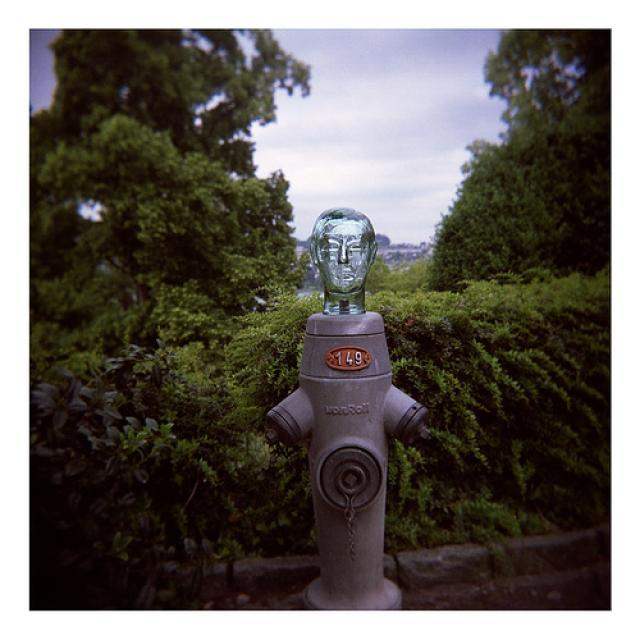fire_hydrant: (264, 294, 428, 624)
